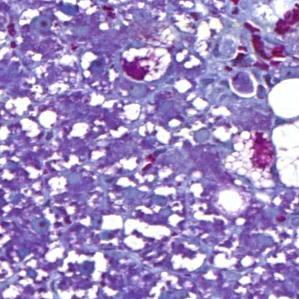ballooning: (223, 123, 297, 190), (119, 44, 175, 85)
